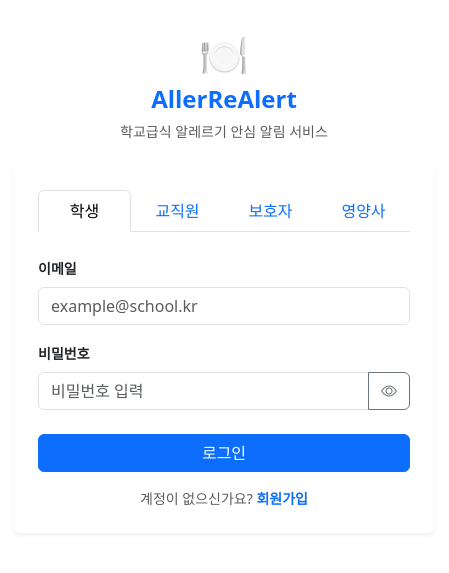
Test case: LoginPage › 빈 폼 제출 시 에러 메시지를 표시한다
The width and height of the screenshot is (449, 573).
Click the button "로그인": (224, 453) [38,434,410,472]
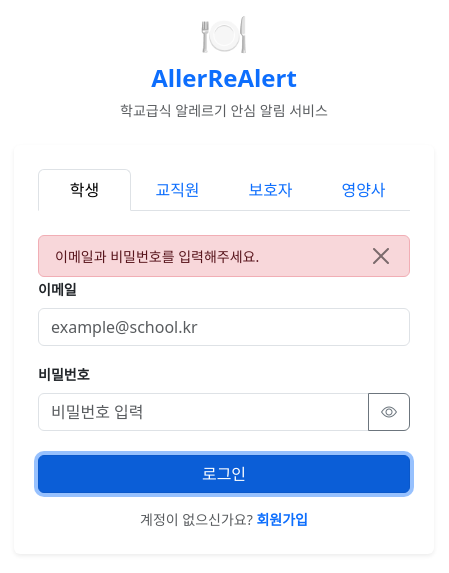
Now the text "이메일과 비밀번호를 입력해주세요." is shown, box [55,246,259,267]
